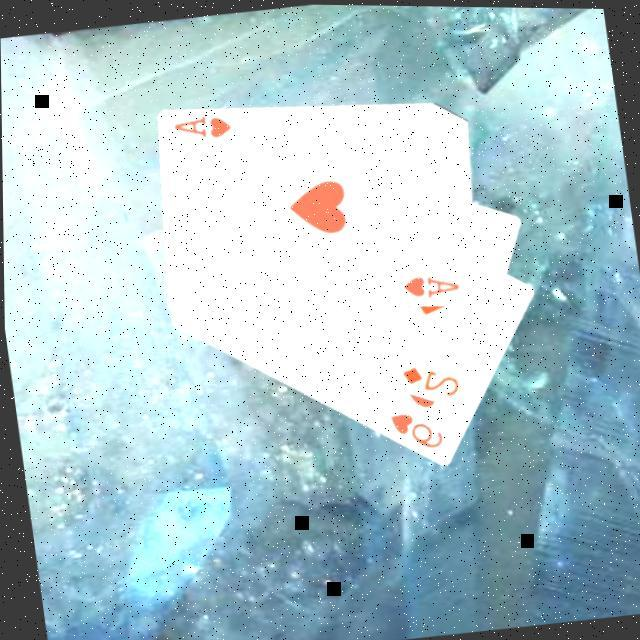2D: (394, 358, 460, 406)
6H: (382, 405, 445, 457)
AH: (168, 109, 233, 147), (396, 268, 462, 304)
